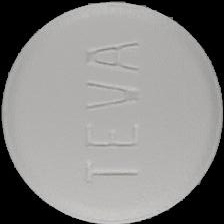50436-4365: (0, 0, 224, 224)
